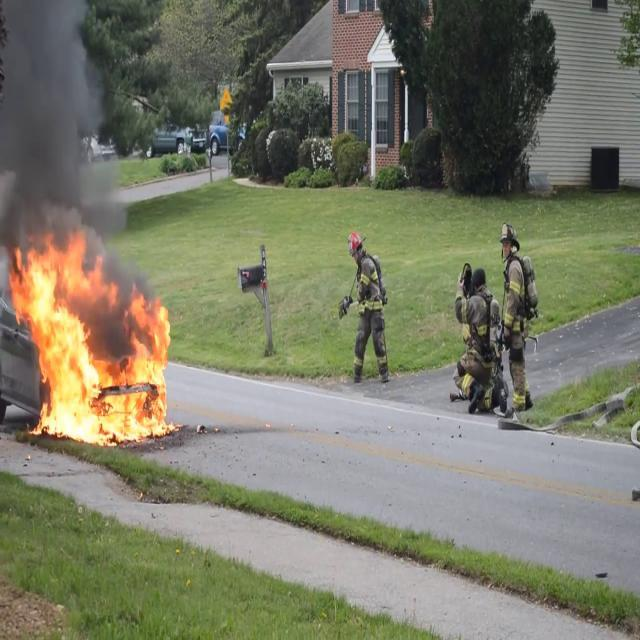Fire: (8, 233, 176, 447)
Smoke: (0, 0, 127, 256)
